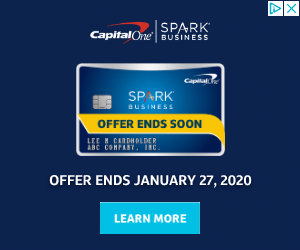fake_button: (95, 198, 204, 242)
